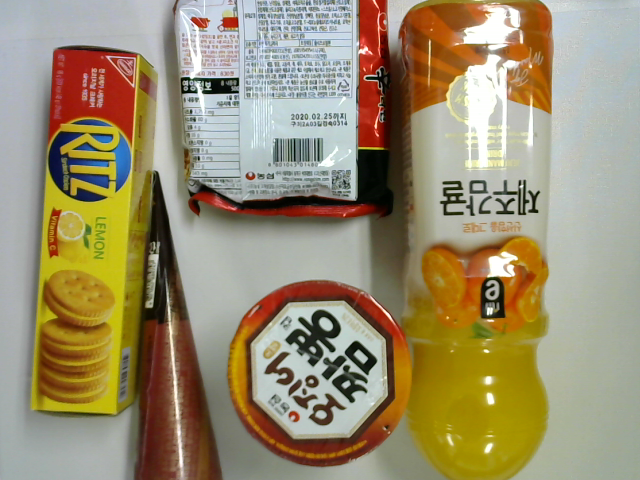GooGoo_Cone_CVS: (129, 173, 225, 480)
Jeju_Tangerine_1.5L: (395, 1, 558, 479)
Ojjam: (228, 279, 411, 470)
Ritz_Remon_96g: (22, 45, 161, 419)
Sinramen: (171, 1, 399, 224)
